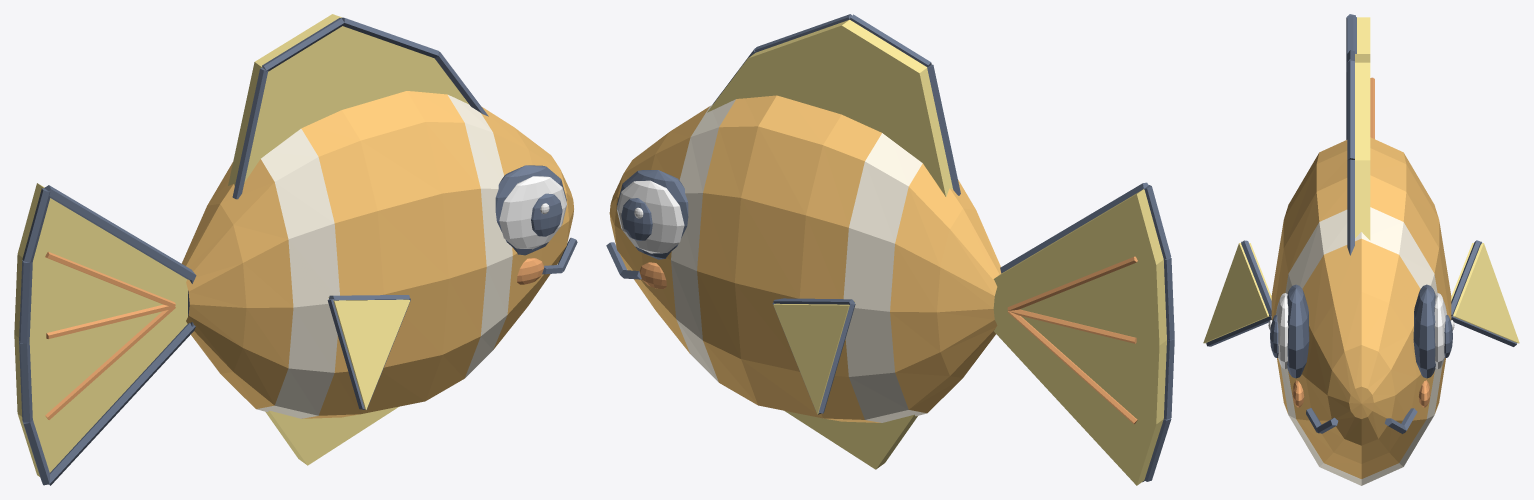
Rendered from fish.glb.
3 views of the same model, side by side, from view 1: azimuth 30°, elevation 25°; view 2: azimuth 150°, elevation 25°; view 3: azimuth 270°, elevation 25° (orthographic). The views are drawn at different scales.
Parts seen in each view (by area): view 1: Body orange, Tail yellow, Body yellow, Body cream, Body ink, Tail ink, Tail orangeDark, Body white; view 2: Body orange, Tail yellow, Body yellow, Body cream, Body ink, Tail ink, Body white, Tail orangeDark; view 3: Body orange, Body yellow, Body ink, Body cream, Body white, Tail ink, Tail yellow, Body orangeDark.
Part boxes in pixels (left/top/right/bottom): Body orange: left=181, top=91, right=573, bottom=418; Tail yellow: left=14, top=183, right=187, bottom=476; Body yellow: left=228, top=14, right=468, bottom=465; Body cream: left=256, top=95, right=512, bottom=418; Body ink: left=232, top=17, right=577, bottom=409; Tail ink: left=19, top=185, right=196, bottom=485; Tail orangeDark: left=45, top=251, right=175, bottom=419; Body white: left=499, top=176, right=566, bottom=249; Body orange: left=609, top=95, right=1001, bottom=422; Tail yellow: left=993, top=189, right=1166, bottom=485; Body yellow: left=707, top=19, right=953, bottom=469; Body cream: left=671, top=99, right=926, bottom=422; Body ink: left=606, top=14, right=960, bottom=414; Tail ink: left=1000, top=182, right=1174, bottom=482; Body white: left=616, top=180, right=684, bottom=253; Tail orangeDark: left=1007, top=256, right=1137, bottom=424; Body orange: left=1271, top=137, right=1451, bottom=478; Body yellow: left=1203, top=54, right=1519, bottom=343; Body ink: left=1206, top=50, right=1516, bottom=433; Body cream: left=1280, top=207, right=1442, bottom=485; Body white: left=1268, top=293, right=1454, bottom=368; Tail ink: left=1346, top=14, right=1356, bottom=139; Tail yellow: left=1357, top=17, right=1370, bottom=53; Body orangeDark: left=1292, top=380, right=1430, bottom=407.
Size of the model in its own units: 3.42 by 2.59 by 1.76.
